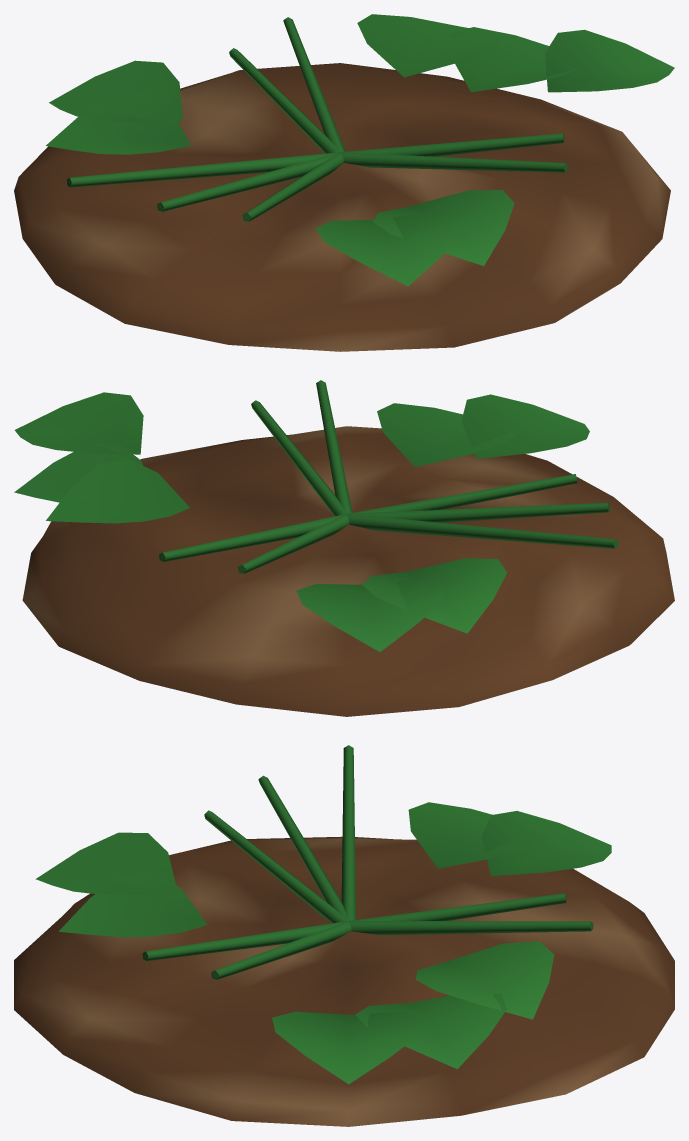
The model's file is plant-watermelon-2.gltf.
The picture shows the model from 3 angles, top to bottom: view 1: azimuth 30°, elevation 25°; view 2: azimuth 150°, elevation 25°; view 3: azimuth 270°, elevation 25°; orthographic projection. The views are drawn at different scales.
Bounding box in the file's own units: 1.39 × 0.2219 × 1.26.
